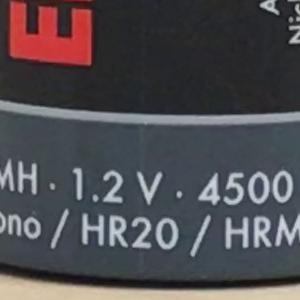keyword: (73, 209, 183, 255)
